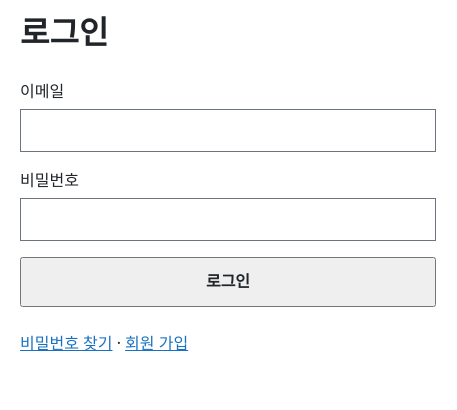
Test: LoginPage › 정지 계정 이메일 로그인은 서버 문구(기한·사유)를 보인다
In the field labelled "이메일": {"x": 228, "y": 130} [20, 109, 436, 152], type "kim755030@naver.com"
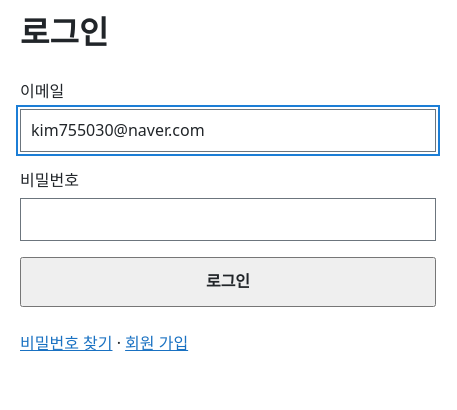
In the password field labelled "비밀번호": {"x": 228, "y": 220} [20, 198, 436, 241], type "Blog#2026a"
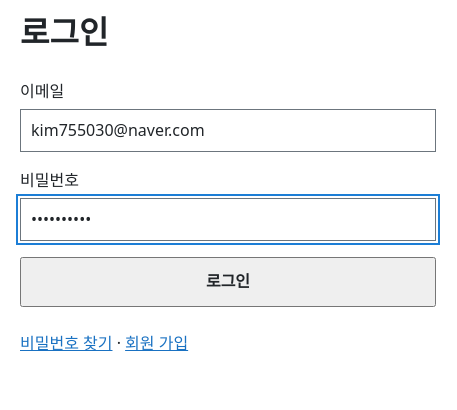
Click the button "로그인": {"x": 228, "y": 282} [20, 257, 436, 307]
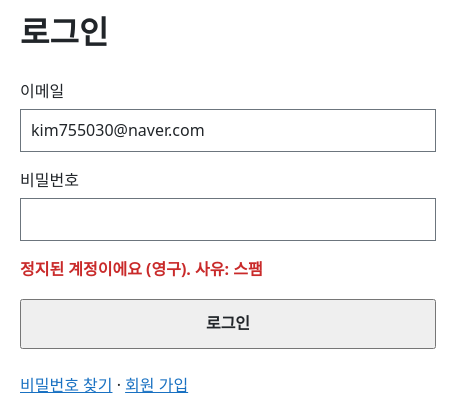
Result: the message reads "정지된 계정이에요 (영구). 사유: 스팸" at [20, 258, 263, 280]
